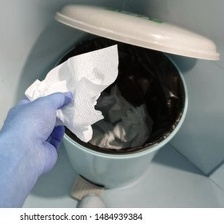tissue: (19, 38, 124, 146)
